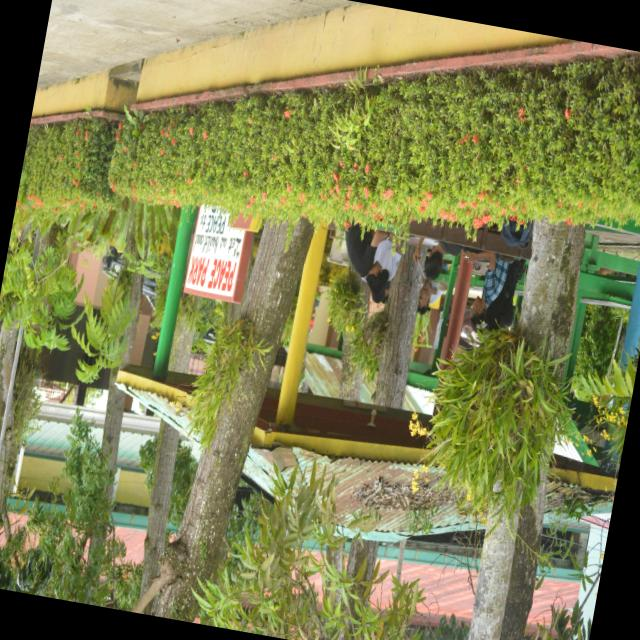person: (463, 250, 507, 325), (345, 224, 391, 292), (485, 258, 524, 329), (371, 239, 400, 301), (423, 241, 461, 278)
